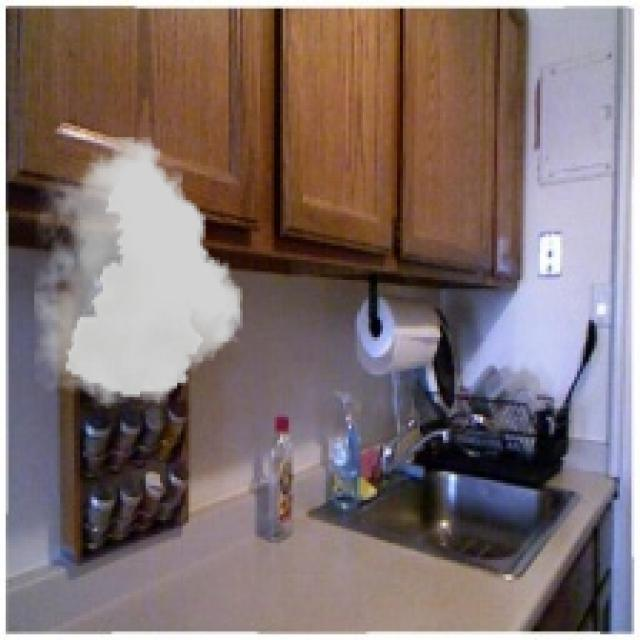smoke: (34, 137, 243, 409)
